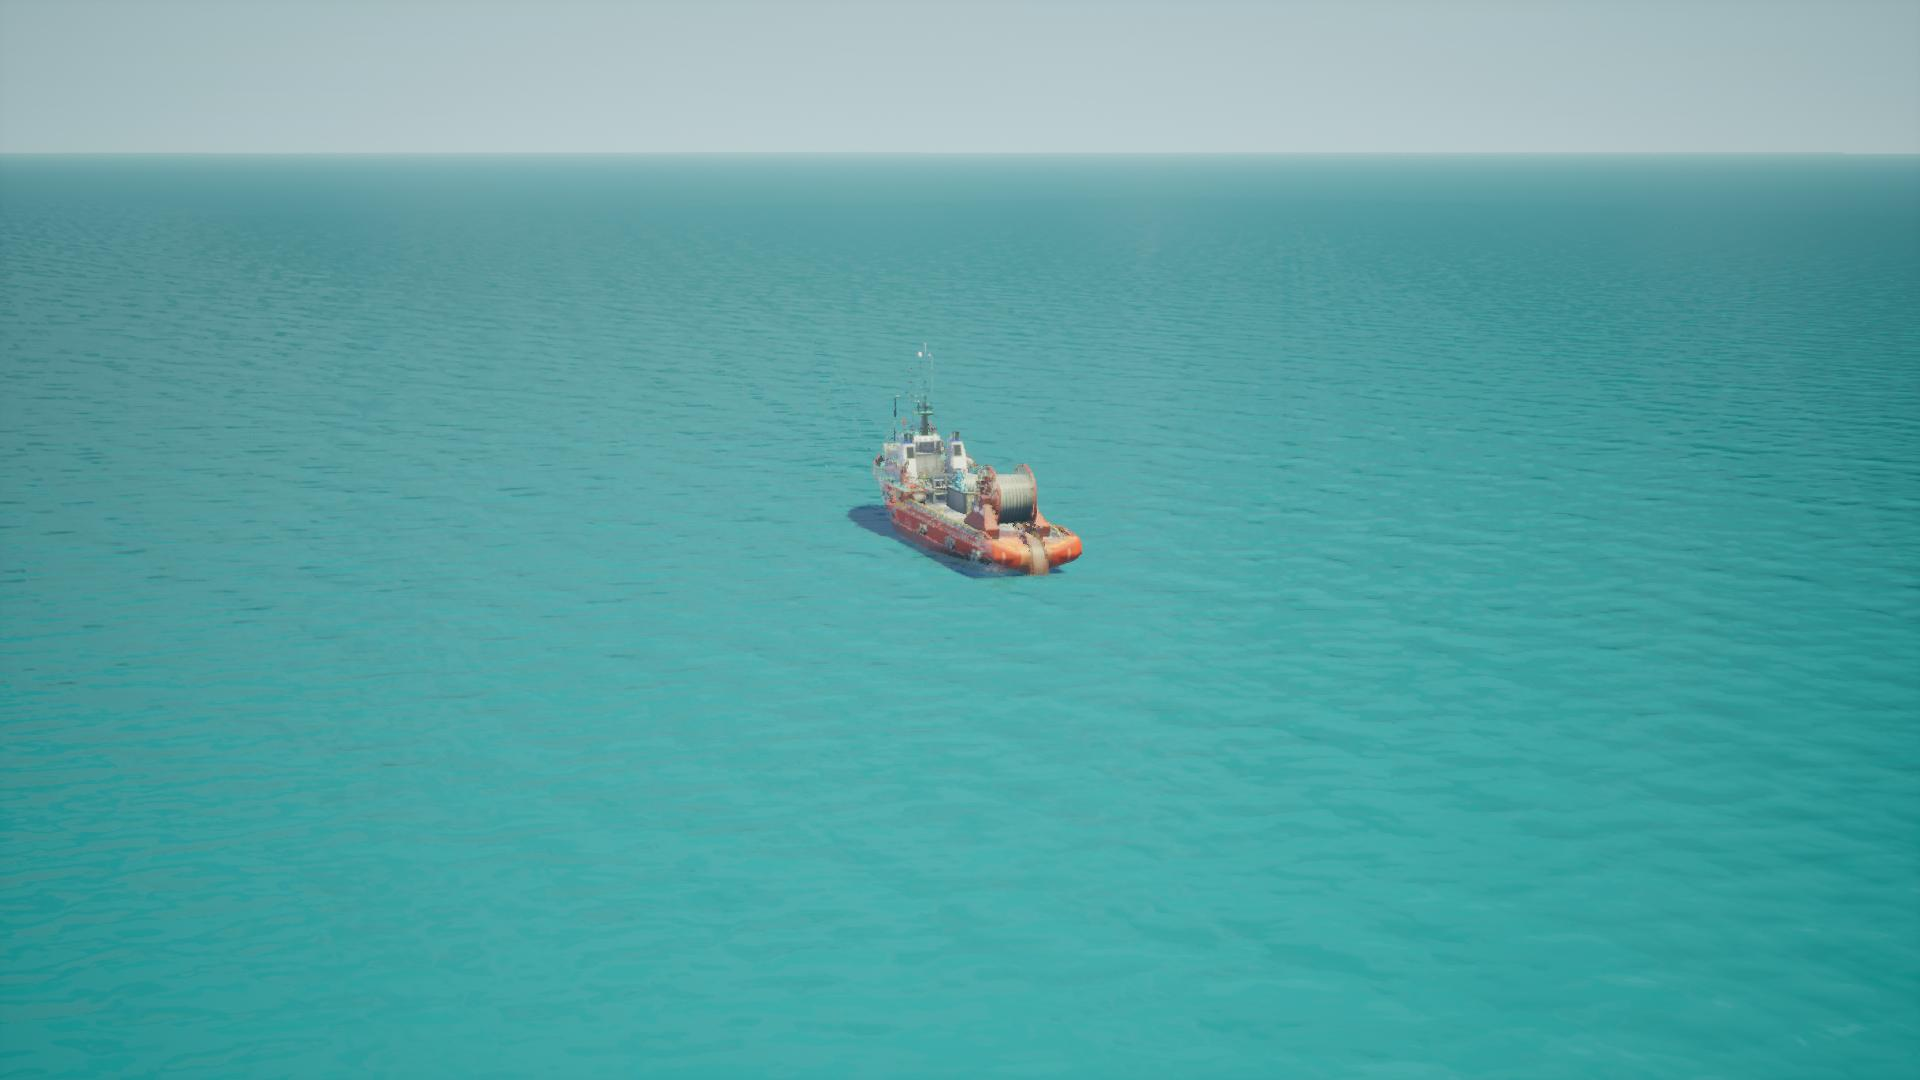Tug Boat: (864, 351, 1054, 584)
